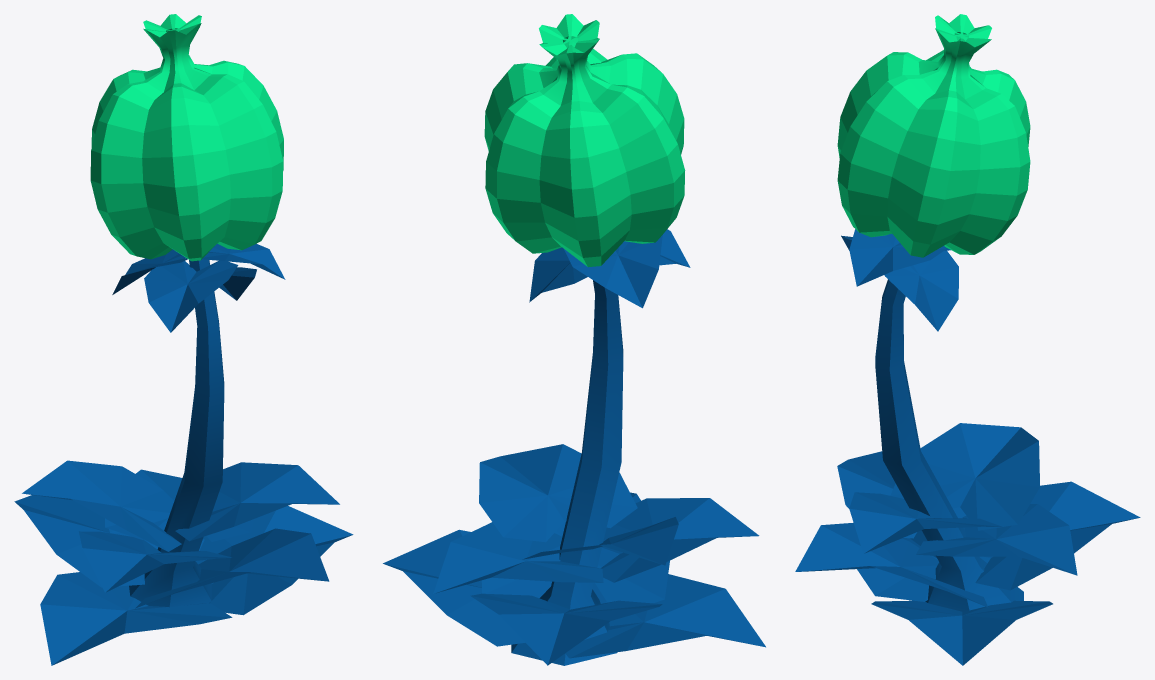
File: Pumpkin_Fungus_2.fbx
3 renders of one model, left to right at view 1: azimuth 30°, elevation 25°; view 2: azimuth 150°, elevation 25°; view 3: azimuth 270°, elevation 25°, orthographic. The views are drawn at different scales.
Visible parts, largest first — view 1: stem, glow; view 2: stem, glow; view 3: stem, glow.
Boxes of the visible parts, x1,y1,x2,y2 form: stem: (14,243,353,665); glow: (90,14,283,261); stem: (383,229,765,665); glow: (484,14,685,267); stem: (795,229,1140,665); glow: (837,14,1030,257).
Bounding box in the file's own units: 11.64 × 19.41 × 10.46.
